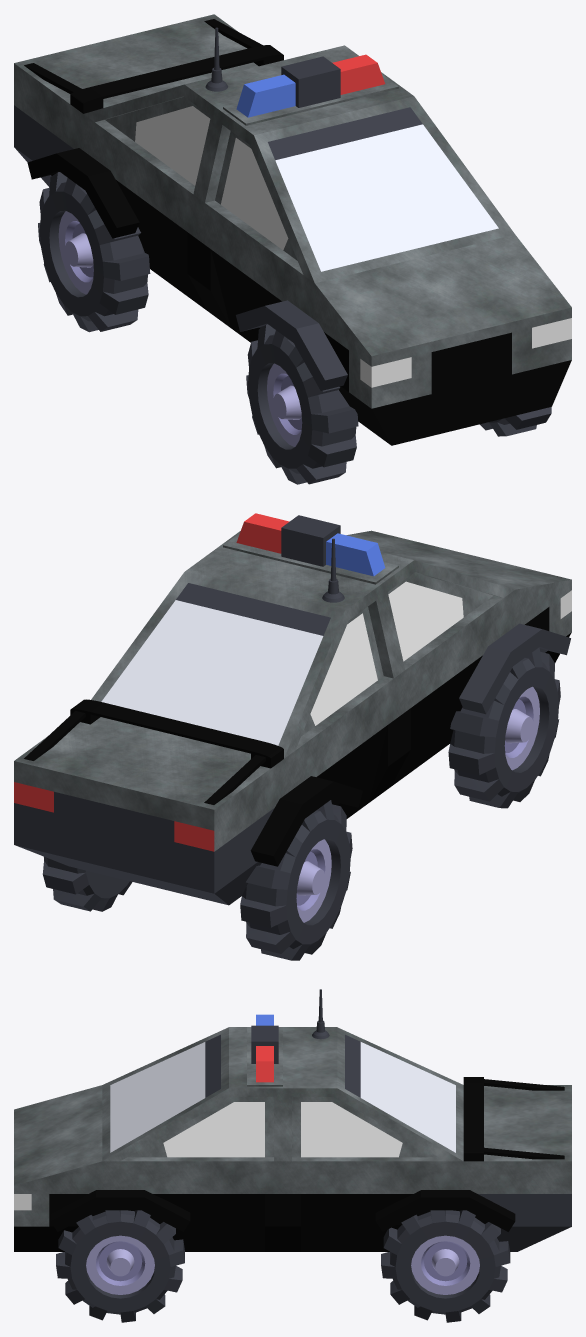
The model's file is CyberPoliceCar.fbx.
The picture shows the model from 3 angles, top to bottom: view 1: azimuth 30°, elevation 25°; view 2: azimuth 150°, elevation 25°; view 3: azimuth 270°, elevation 25°; orthographic projection. The views are drawn at different scales.
Parts seen in each view (by area): view 1: mergedBlocks; view 2: mergedBlocks; view 3: mergedBlocks.
Part boxes in pixels (x1,y1,x2,y2): mergedBlocks: (14, 14, 571, 484); mergedBlocks: (14, 513, 571, 960); mergedBlocks: (14, 989, 571, 1322).
Size of the model in its own units: 12.16 by 16.38 by 30.9.
9 materials, 1 textured.
